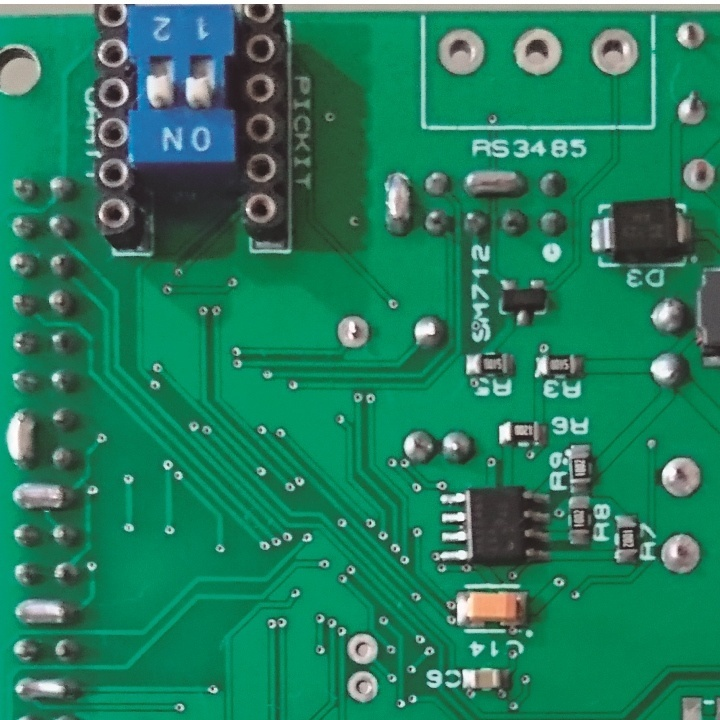F: (433, 25, 491, 79), (587, 26, 641, 79), (510, 26, 564, 78), (657, 532, 704, 579), (659, 455, 703, 500), (335, 309, 372, 353), (679, 155, 717, 195), (674, 89, 711, 126), (343, 670, 382, 704), (344, 630, 378, 666), (673, 19, 707, 54)
P: (381, 169, 418, 237), (3, 405, 41, 471), (5, 479, 76, 514), (13, 595, 81, 631), (11, 672, 79, 707), (461, 169, 529, 199)
